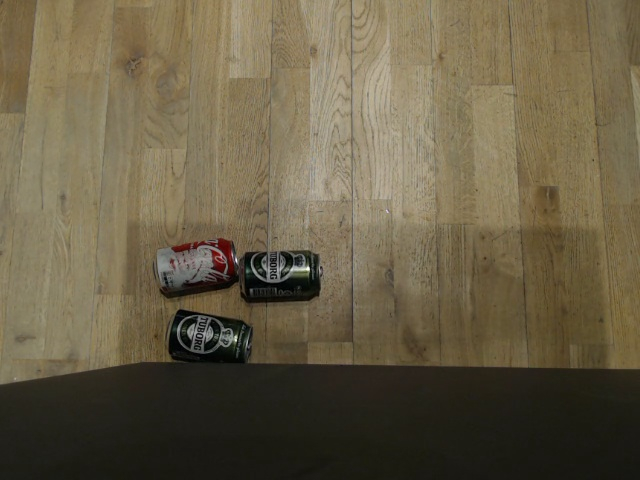beer: (239, 244, 327, 306), (160, 310, 255, 364)
cola: (142, 234, 235, 296)
